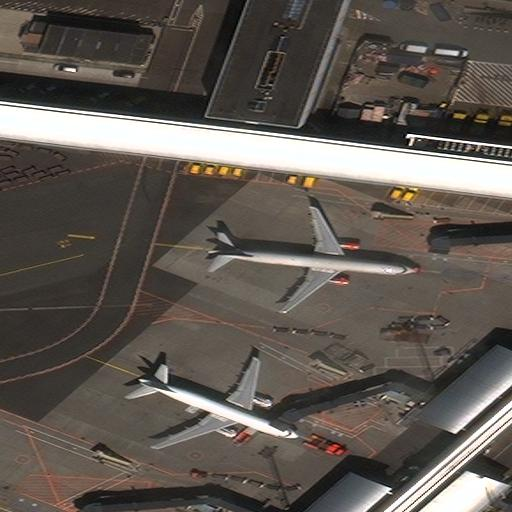Medium Civil Transport: (208, 206, 417, 314), (138, 359, 299, 448)
